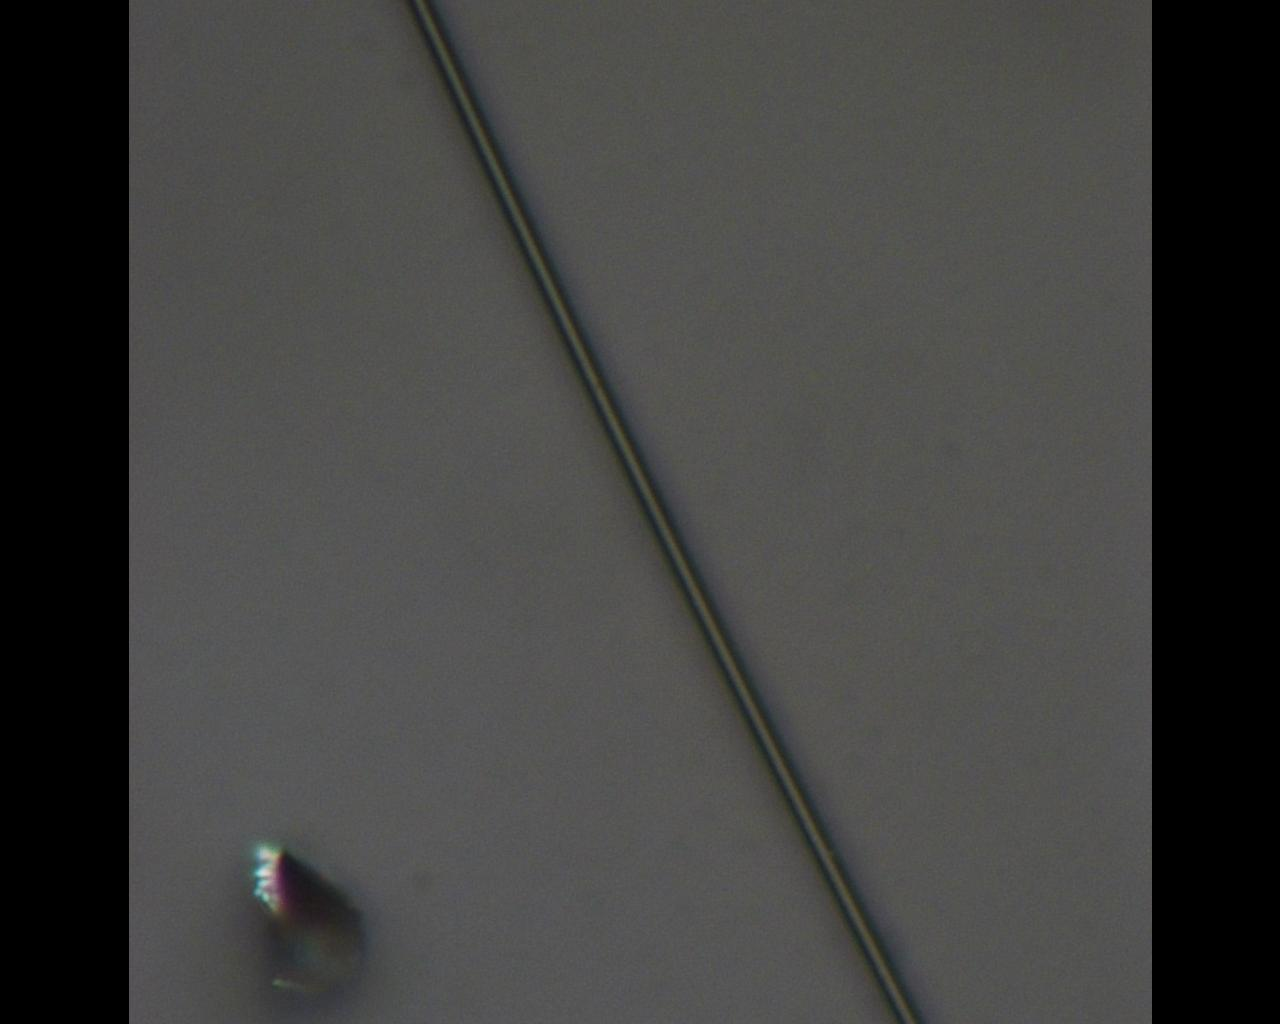fiber: (404, 0, 923, 1024)
